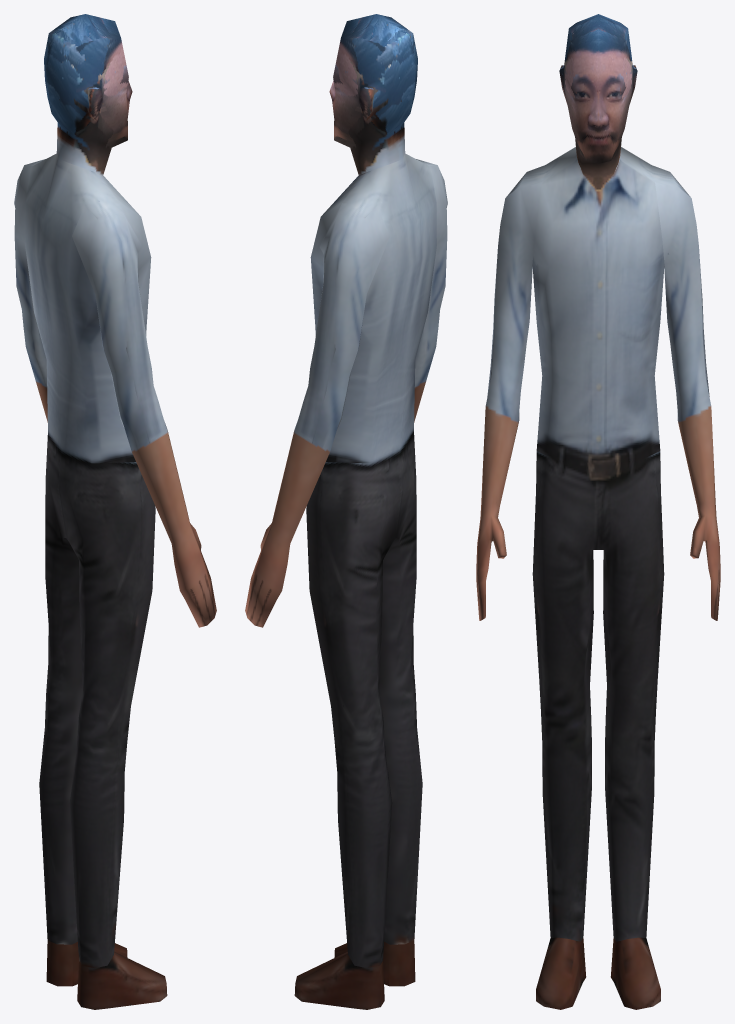
File: theproctor.fbx
The picture shows the model from 3 angles, left to right: view 1: azimuth 30°, elevation 25°; view 2: azimuth 150°, elevation 25°; view 3: azimuth 270°, elevation 25°; orthographic projection.
Visible parts, largest first — view 1: phil.001; view 2: phil.001; view 3: phil.001.
Boxes of the visible parts, left/top/right/bottom form: phil.001: left=14, top=14, right=216, bottom=1009; phil.001: left=245, top=14, right=447, bottom=1009; phil.001: left=476, top=14, right=720, bottom=1009.
Size of the model in its own units: 85.61 by 674 by 155.
